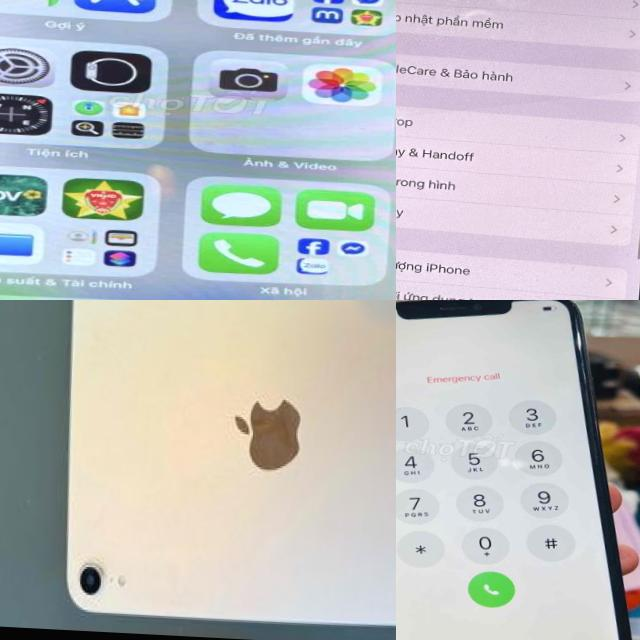gen_11: (396, 300, 640, 640)
gen_x_xs: (0, 0, 396, 300), (396, 0, 640, 300)
